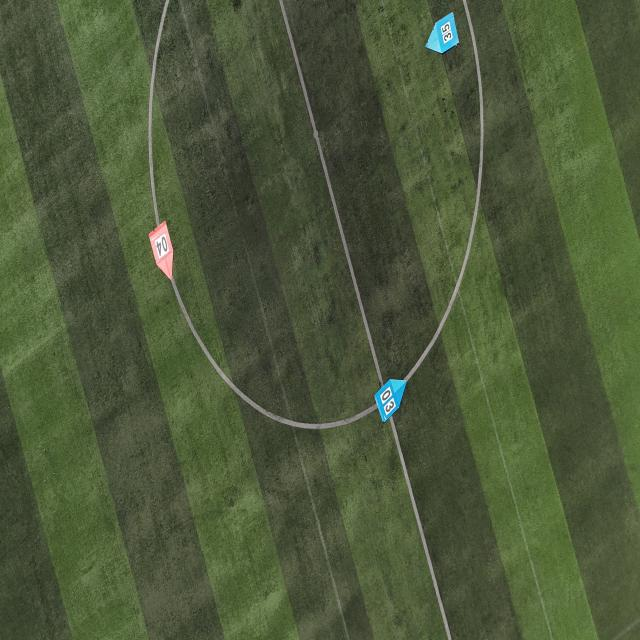board: (373, 378, 407, 424), (149, 219, 174, 281), (425, 12, 459, 54)
